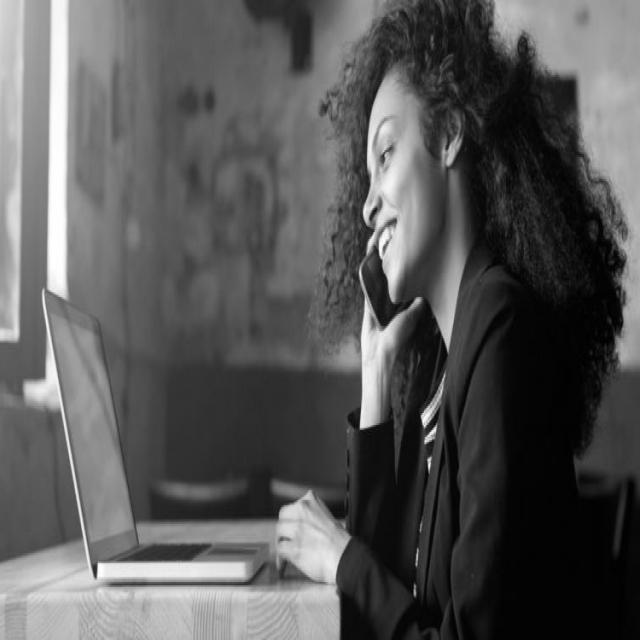phone: (350, 174, 421, 369)
